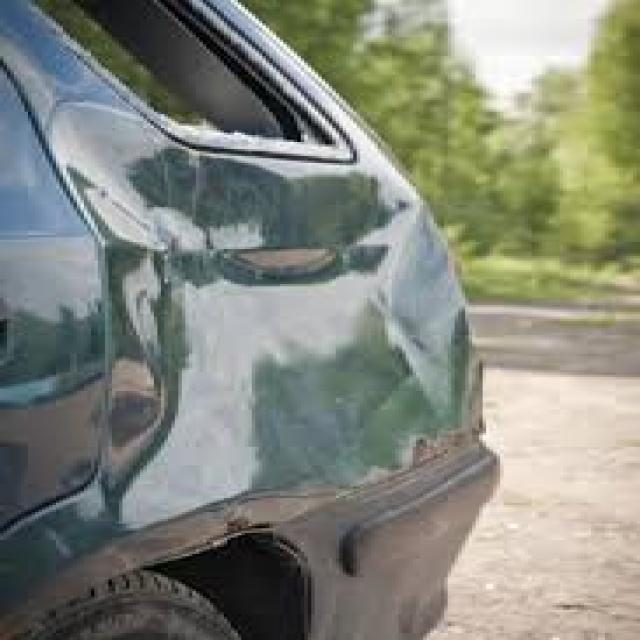minor: (75, 155, 552, 592)
